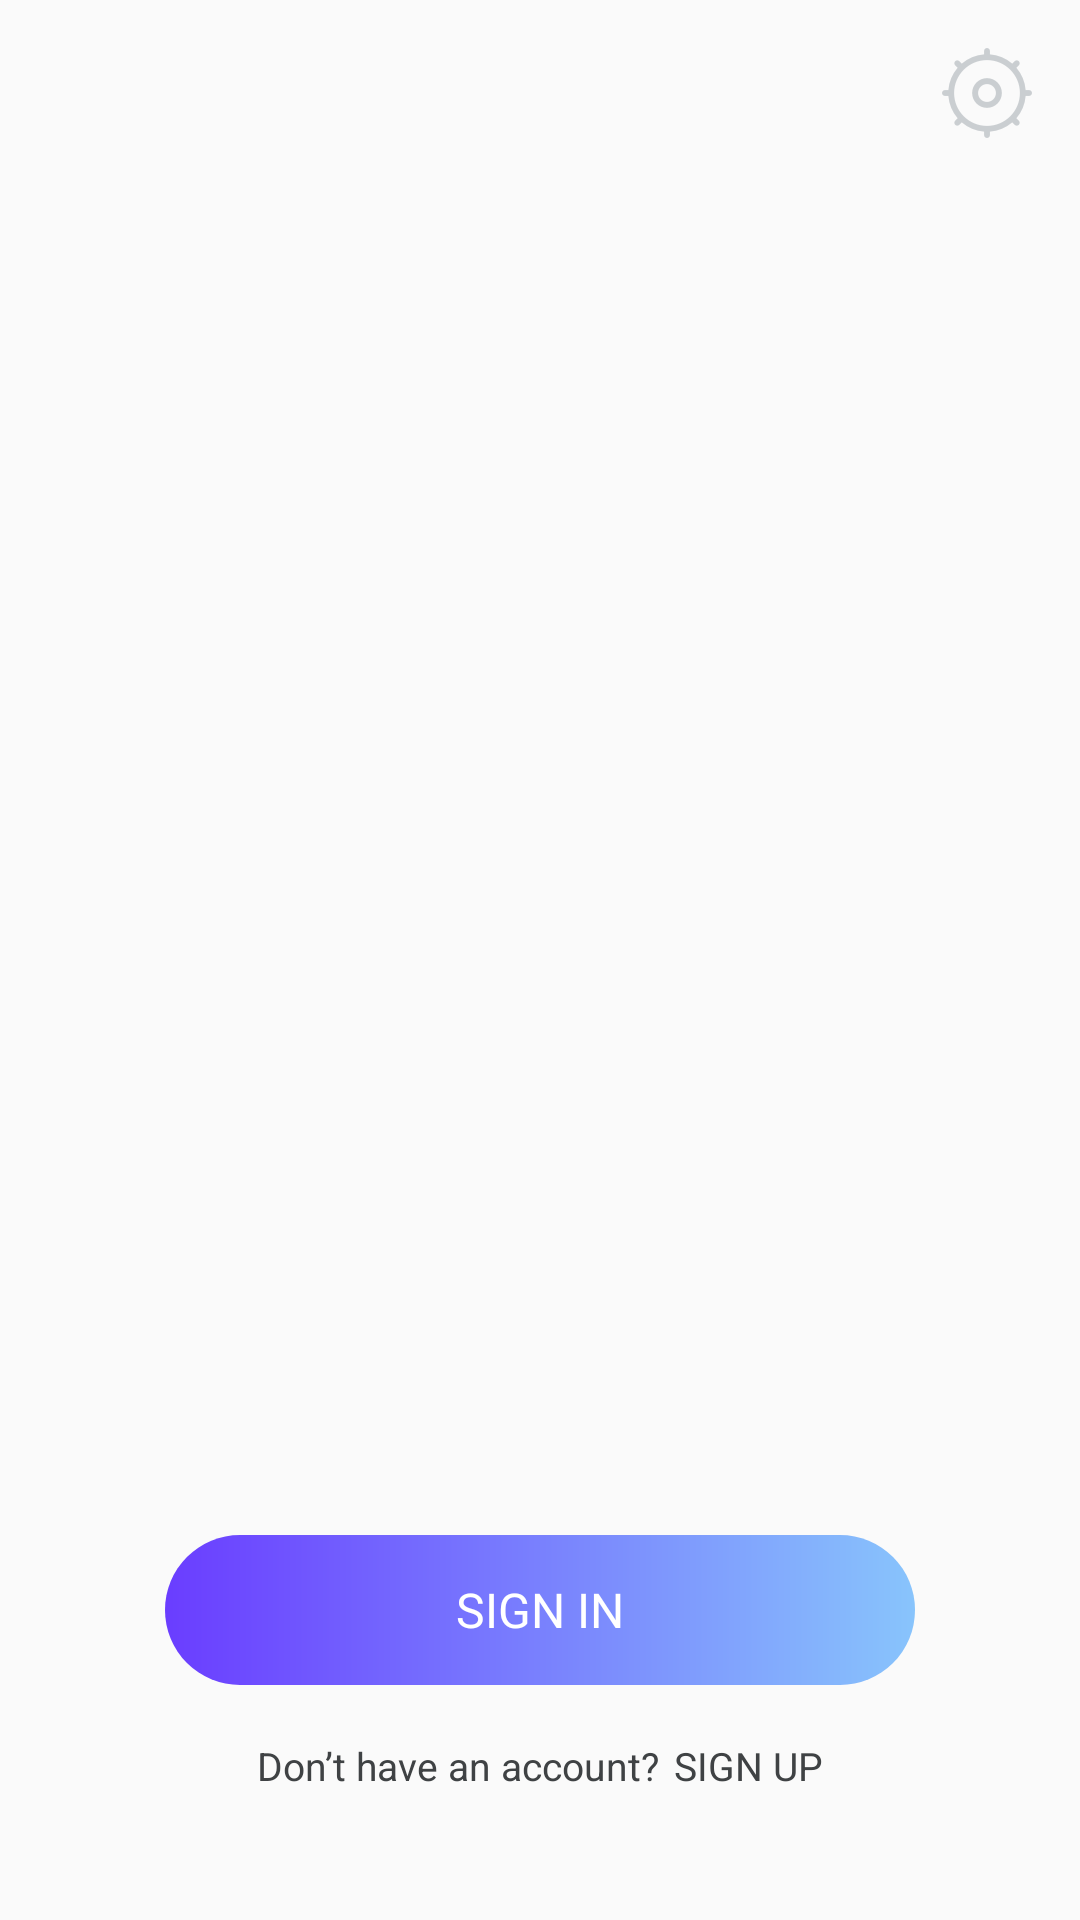

Named icons in this screenshot (1080×1920) and their bounding boxes, [left=x1, top=y1, right=x2, bottom=y2]:
settings: [left=942, top=48, right=1032, bottom=138]
